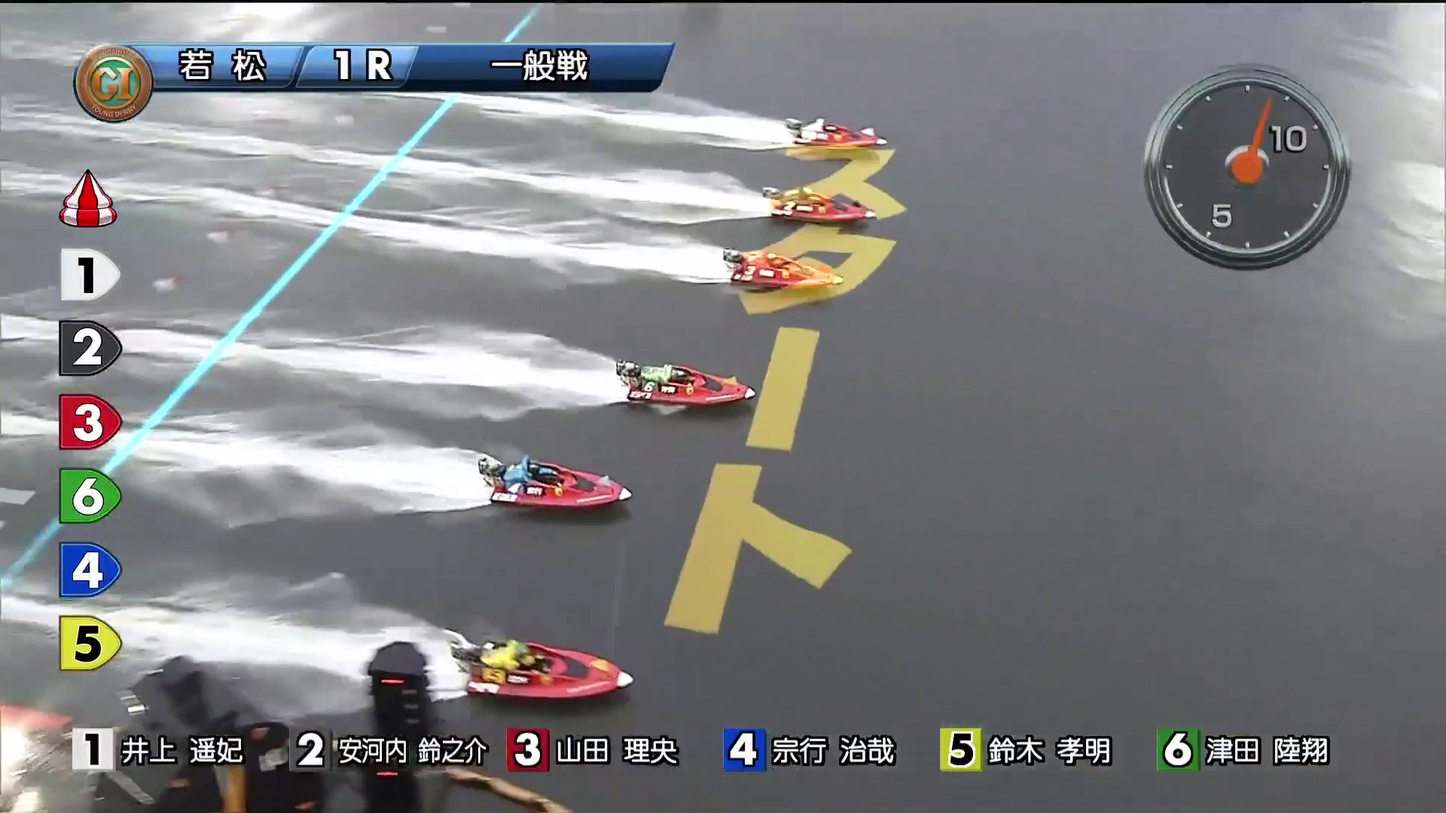１号艇: (778, 121, 861, 167)
２号艇: (781, 193, 870, 231)
３号艇: (737, 254, 839, 295)
４号艇: (646, 360, 738, 403)
５号艇: (507, 458, 611, 507)
６号艇: (478, 647, 605, 700)
